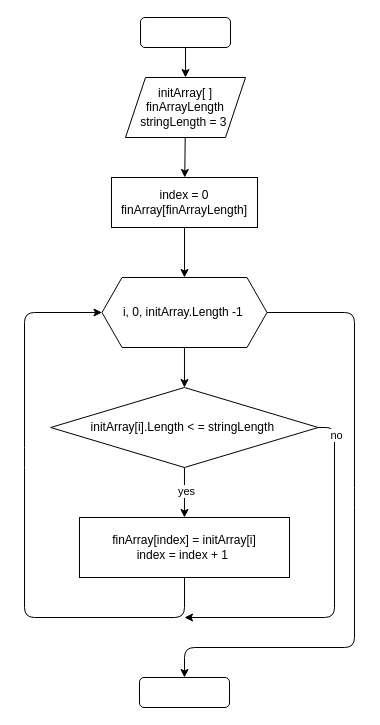
Some shapes in this 380 by 725 pixel diagram are drawn without their labels. The shapes that lost their labels are listed below. From the top down, each one's centre as x and y in pixels, then its label:
(x=185, y=32): START
(x=184, y=692): FINISH
